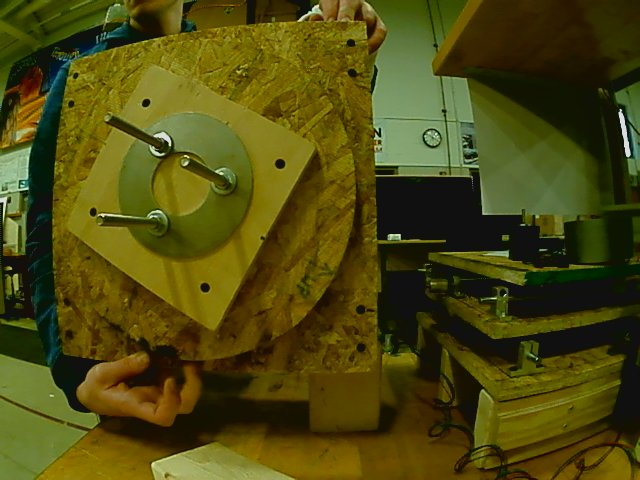bolt: (209, 166, 238, 197), (144, 209, 170, 238), (149, 130, 174, 159)
